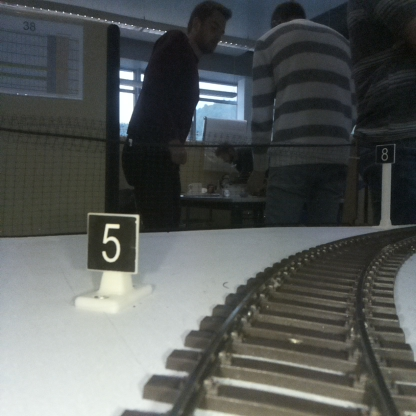black-info-8: (376, 144, 394, 228)
black-stop-5: (87, 215, 137, 308)
